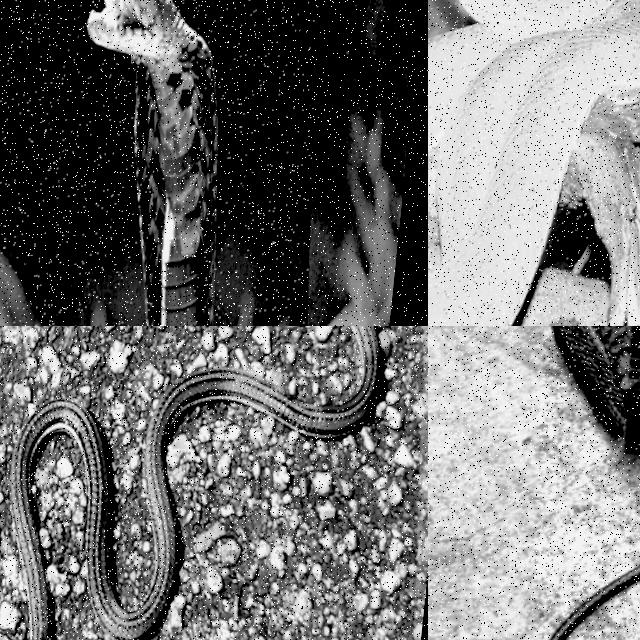Calliophis intestinalis: (11, 326, 381, 639)
Naja siamensis: (88, 0, 218, 325), (553, 326, 639, 454)
Trimeresurus: (428, 0, 639, 325)
